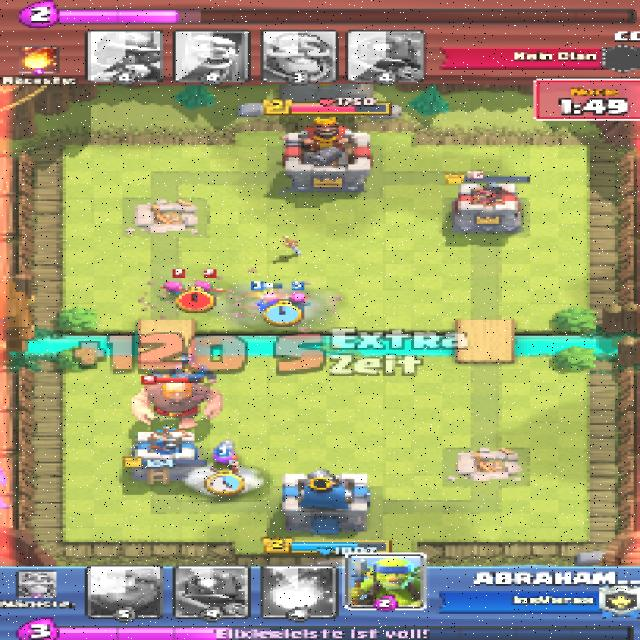Enemy-Archer: (162, 282, 189, 298), (195, 280, 215, 299)
Enemy-Giant: (129, 380, 224, 430)
Player-Archer: (286, 292, 308, 311), (255, 294, 279, 310)
Player-Knight: (158, 361, 217, 381)
Player-Musketeer: (210, 438, 237, 474)
